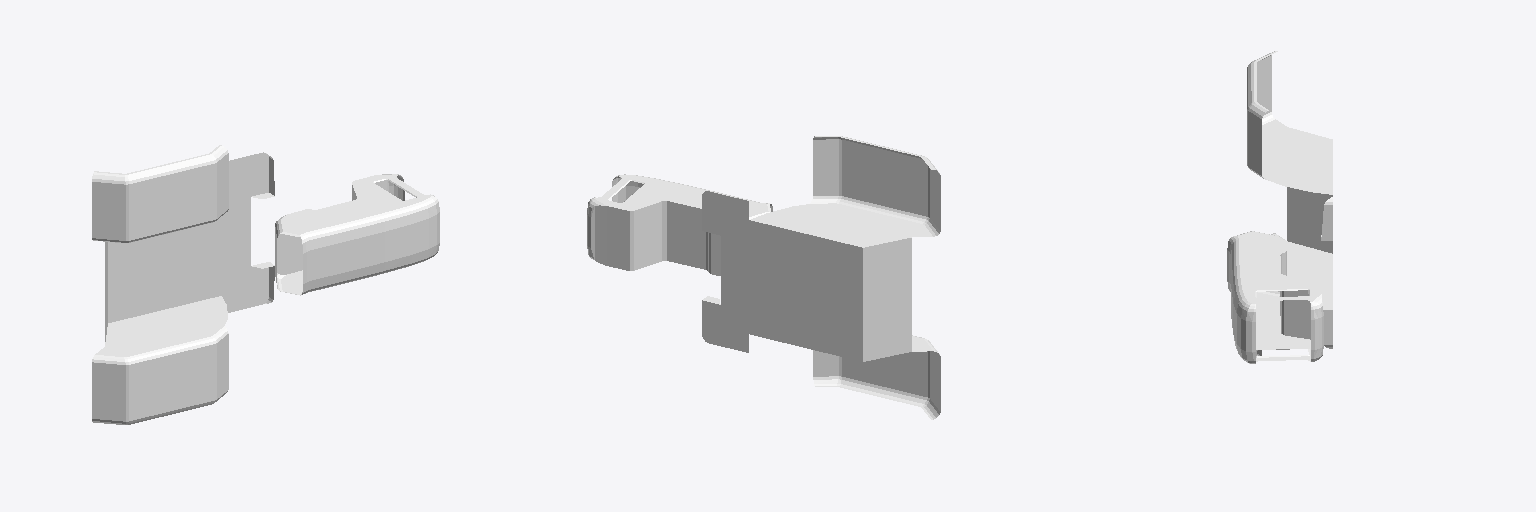
File: tractor_body.obj
The picture shows the model from 3 angles: view 1: azimuth 30°, elevation 25°; view 2: azimuth 150°, elevation 25°; view 3: azimuth 270°, elevation 25°; orthographic projection.
Parts seen in each view (by area): view 1: body; view 2: body; view 3: body.
Boxes of the visible parts, x1,y1,x2,y2 form: body: [92, 145, 439, 424]; body: [587, 136, 940, 419]; body: [1227, 51, 1332, 363].
Bounding box in the file's own units: 3.13 × 2.22 × 0.8496.